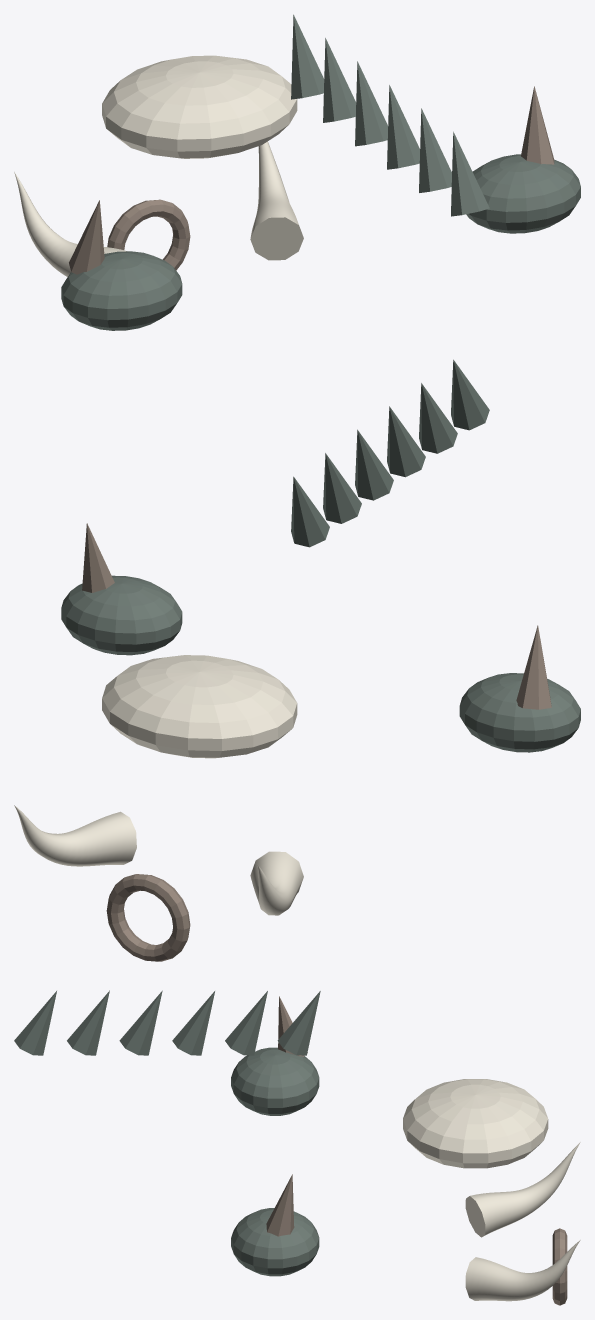
File: mob_boar-decor.glb
3 renders of one model, top to bottom at view 1: azimuth 30°, elevation 25°; view 2: azimuth 150°, elevation 25°; view 3: azimuth 270°, elevation 25°, orthographic. The views are drawn at different scales.
Visible parts, largest first — view 1: mob_boar_decor; view 2: mob_boar_decor; view 3: mob_boar_decor.
Boxes of the visible parts, x1,y1,x2,y2 form: mob_boar_decor: (14,14,580,330); mob_boar_decor: (14,359,580,961); mob_boar_decor: (14,990,580,1305).
Bounding box in the file's own units: 0.914 × 0.6534 × 1.08.
